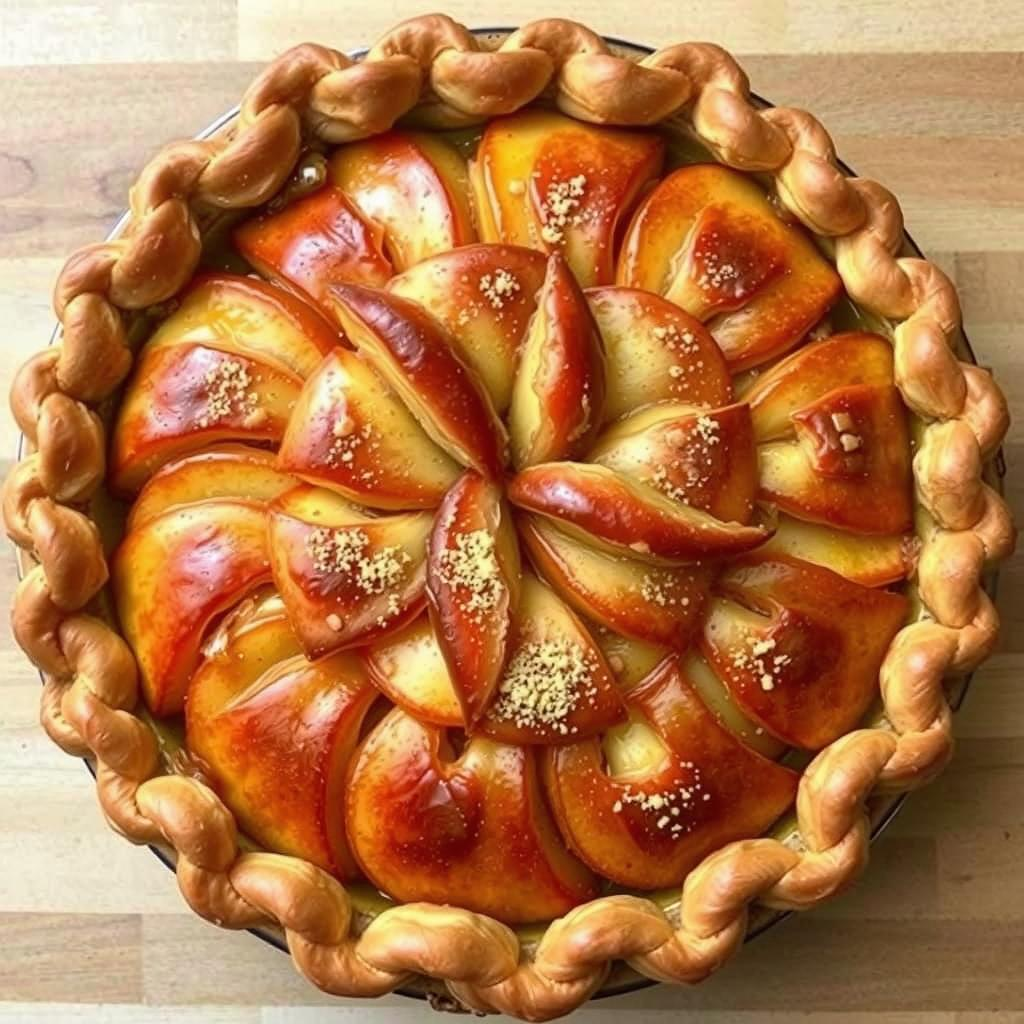pie: (0, 10, 1011, 1024)
